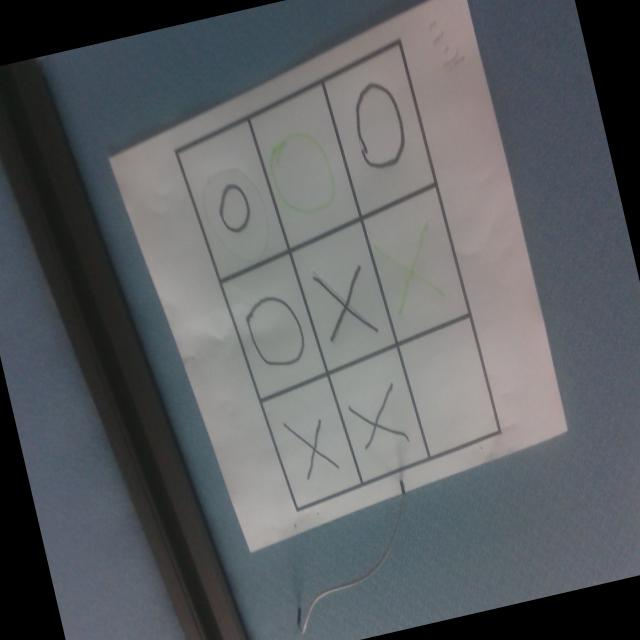null: (396, 316, 500, 458)
o: (259, 126, 341, 223), (347, 78, 413, 175), (241, 291, 311, 377), (213, 181, 255, 238)
table: (155, 38, 507, 523)
x: (370, 224, 450, 329), (313, 260, 376, 345), (344, 382, 409, 454), (283, 412, 338, 482)
